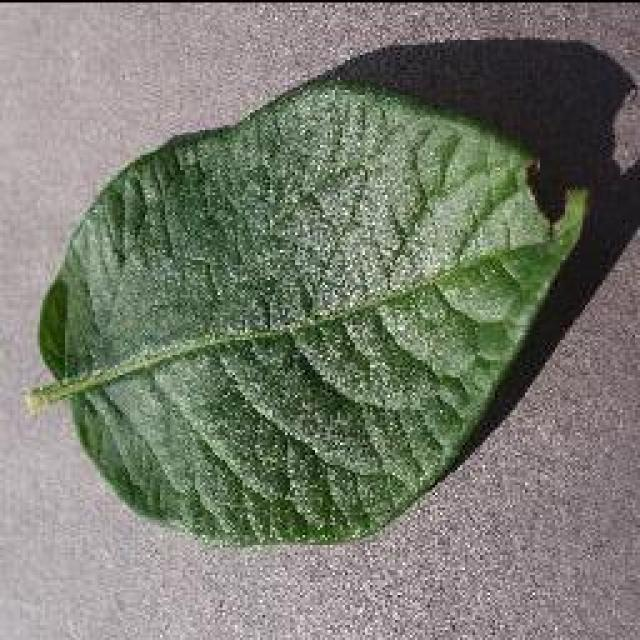Potato___healthy: (14, 74, 592, 547)
